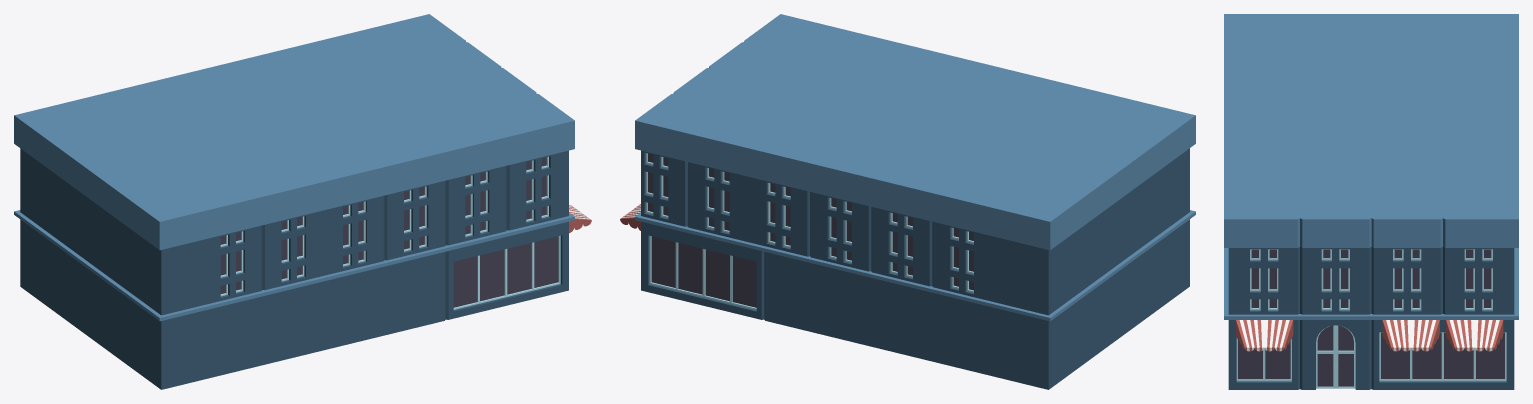
Rendered from Building4.fbx.
3 renders of one model, left to right at view 1: azimuth 30°, elevation 25°; view 2: azimuth 150°, elevation 25°; view 3: azimuth 270°, elevation 25°, orthographic.
Visible parts, largest first — view 1: Plane.027, Plane.006, Plane.002; view 2: Plane.027, Plane.006, Plane.002; view 3: Plane.027, Plane.006, Plane.002.
Part boxes in pixels (bbox=[...]): Plane.027: bbox=[14, 14, 574, 250]; Plane.006: bbox=[14, 148, 574, 321]; Plane.002: bbox=[20, 205, 591, 389]; Plane.027: bbox=[635, 14, 1195, 250]; Plane.006: bbox=[635, 148, 1195, 321]; Plane.002: bbox=[620, 204, 1189, 389]; Plane.027: bbox=[1224, 14, 1518, 247]; Plane.006: bbox=[1224, 247, 1518, 319]; Plane.002: bbox=[1228, 320, 1514, 389].
Size of the model in its own units: 3255 by 1200 by 1857.
